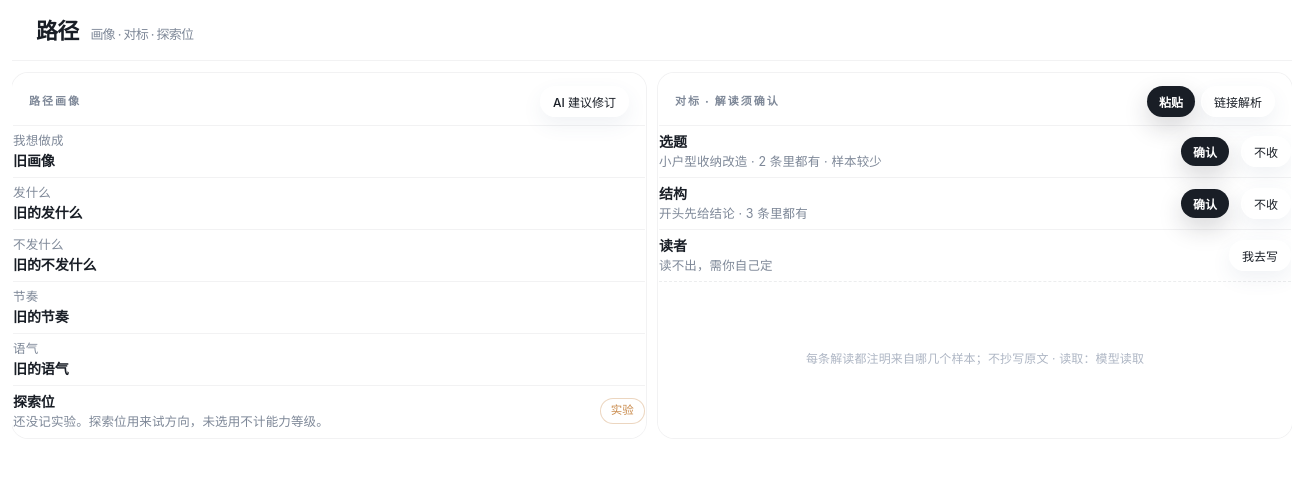
Test: PathPage › saves 我想做成 into the statement path-profile field
This screenshot has width=1304, height=485.
Click the text "旧画像": x=34, y=161 [13,152,55,169]
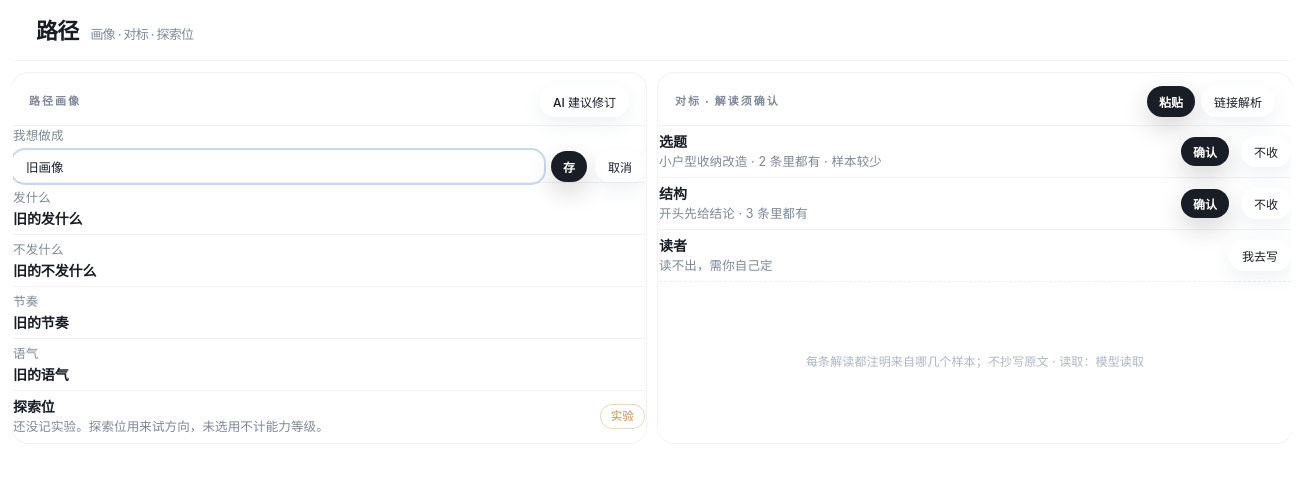
Replace the text in the field named "我想做成" with "把生活实验讲清楚的博主": x=278, y=167 [13,151,543,182]
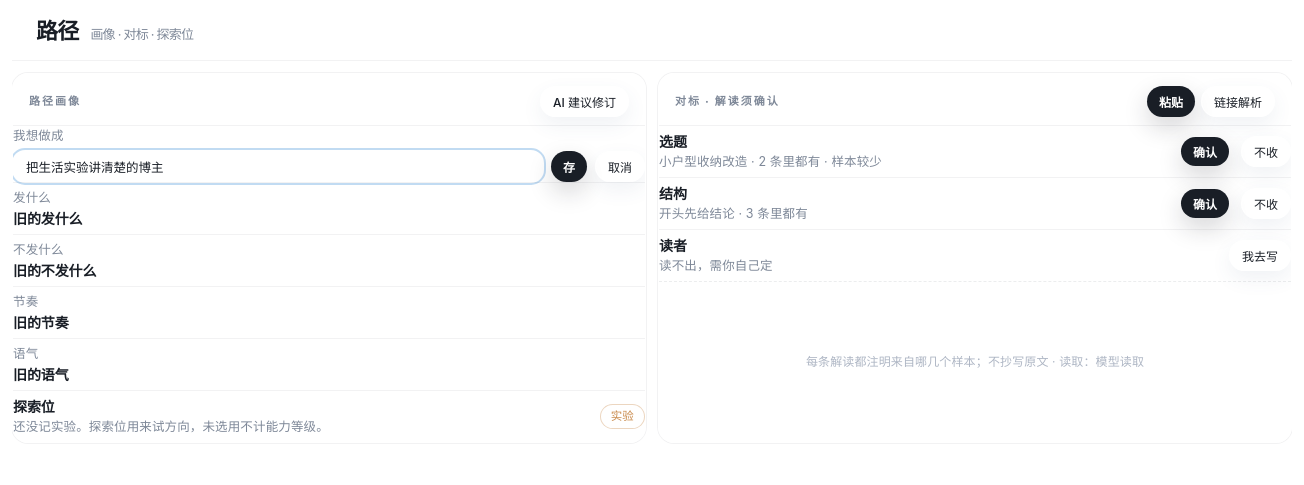
Click the button "存": x=569, y=167 [551,151,587,182]
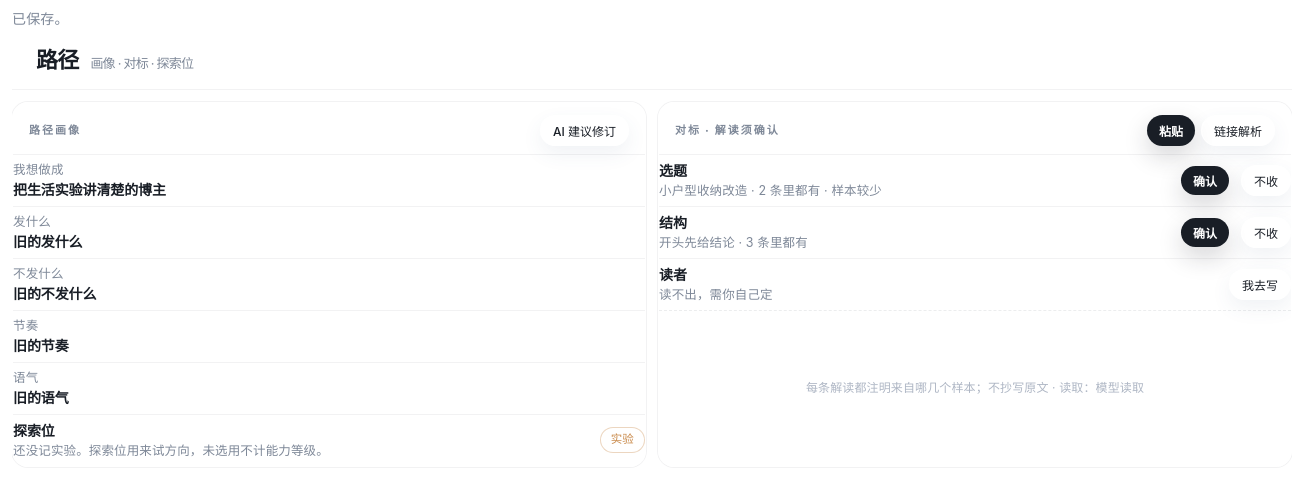
Expected: the text "已保存。" is shown, [12,10,68,27]
Expected: the text "把生活实验讲清楚的博主" is shown, [13,181,166,198]
